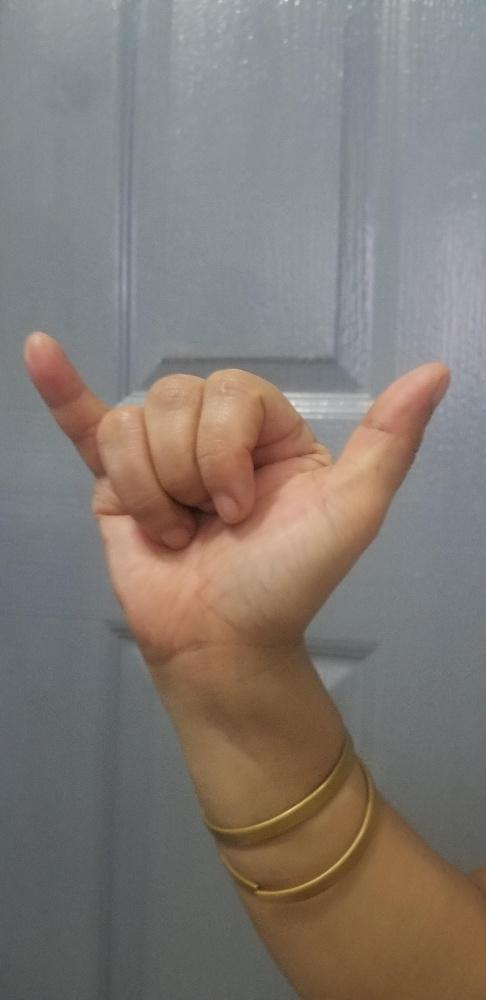y: (15, 329, 452, 640)
